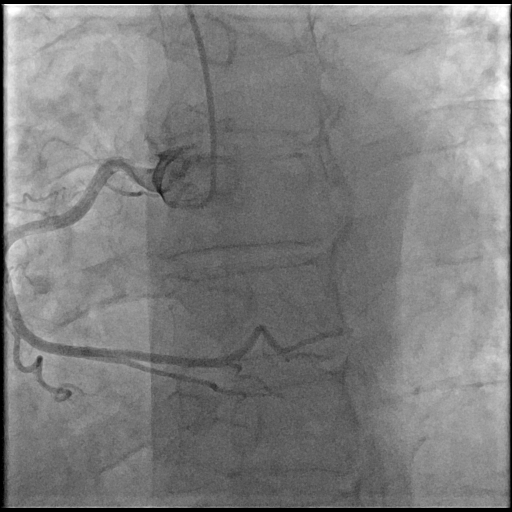RCA: (3, 158, 330, 380)
catherter: (187, 6, 217, 202)
